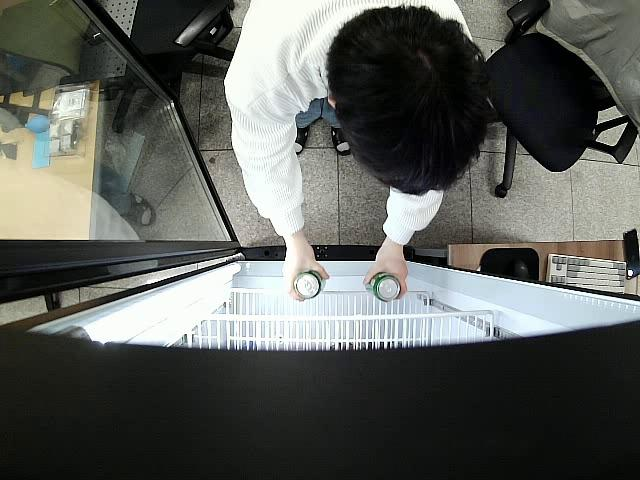00_hand: (281, 244, 328, 303), (364, 245, 409, 303)
12_chilsungCider: (365, 271, 401, 302), (293, 269, 325, 299)
